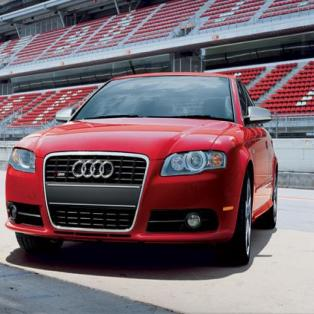Auto: (4, 70, 279, 269)
